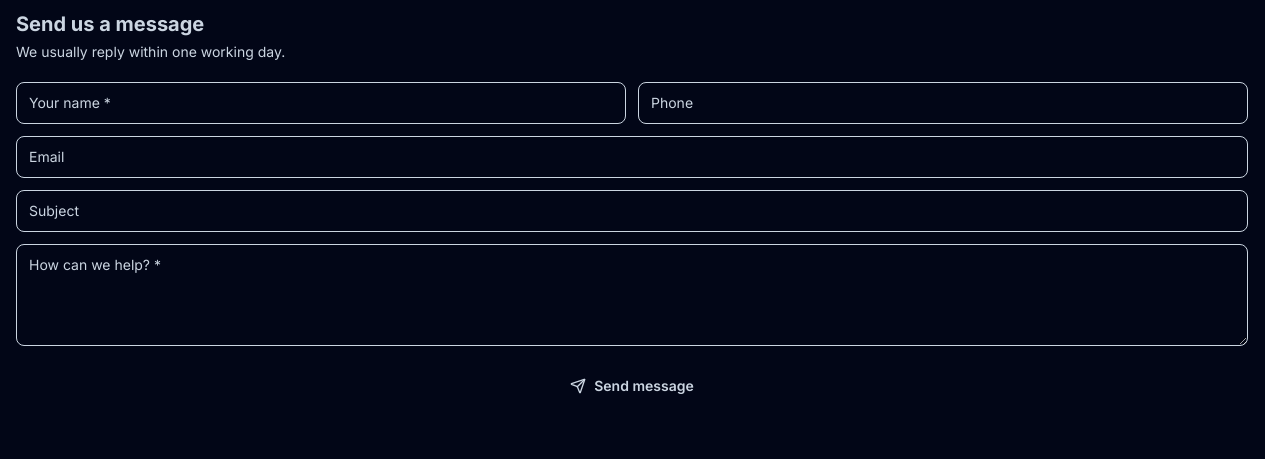
Test: contact form › preview me asli message nahi jaata
The width and height of the screenshot is (1265, 459).
Type "Riya" into the field labelled "Your name" at (321, 103), box [16,82,626,124]
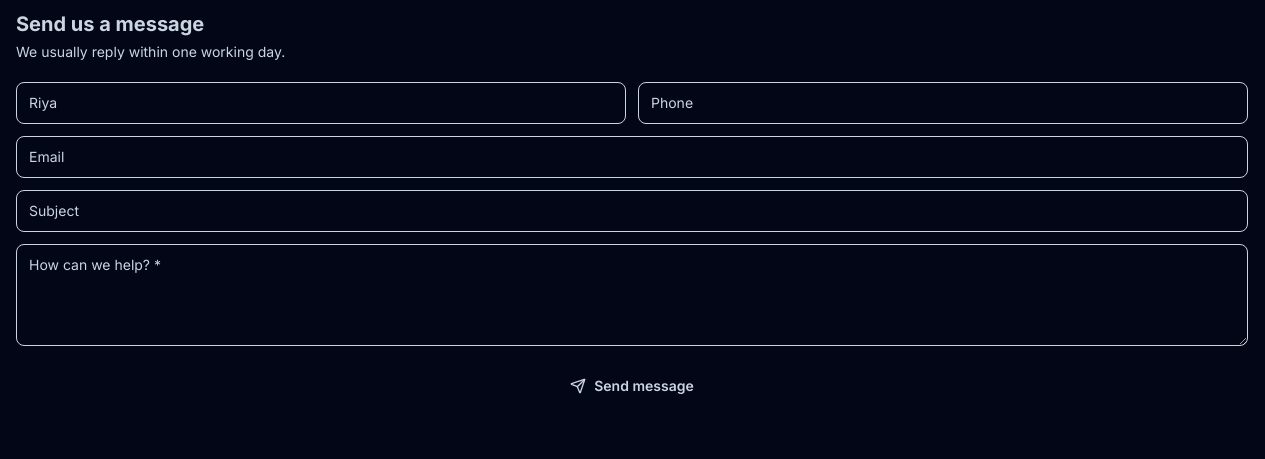
Type "9876543210" into the field labelled "Phone" at (943, 103), box [638,82,1248,124]
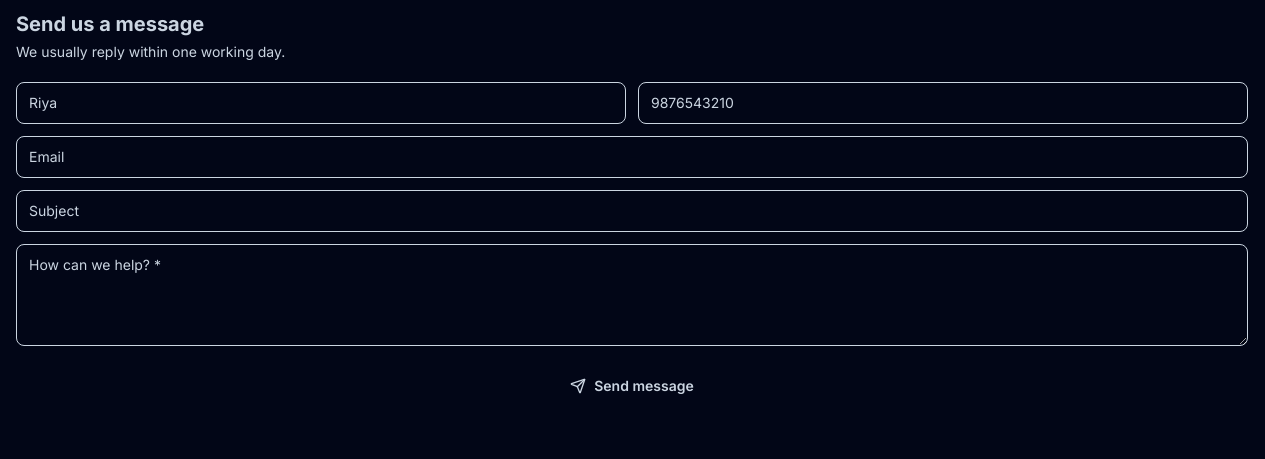
Type "Hello there" into the text box named "Message" at (632, 295), box [16,244,1248,346]
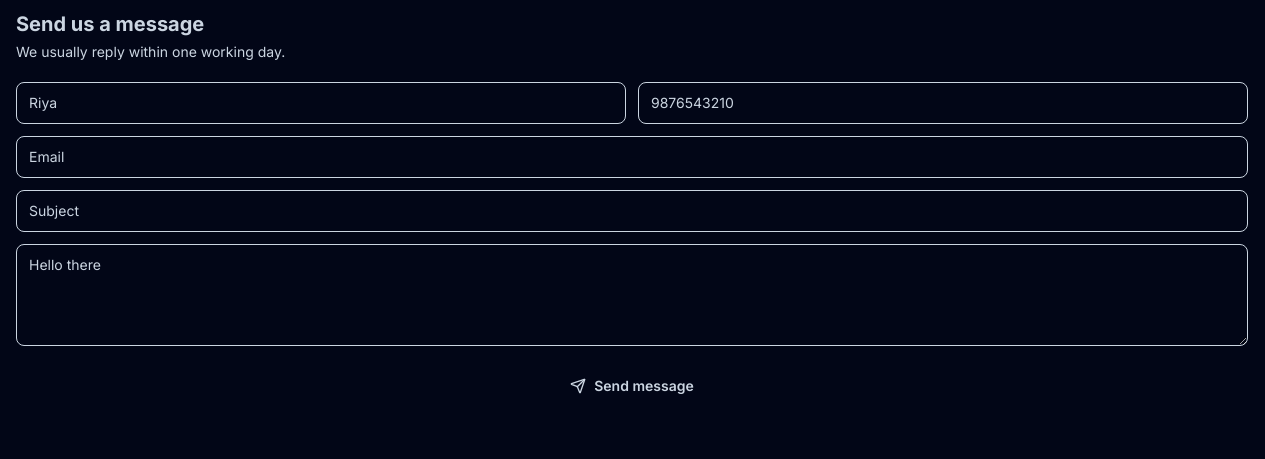
Submit the form named "Contact form"
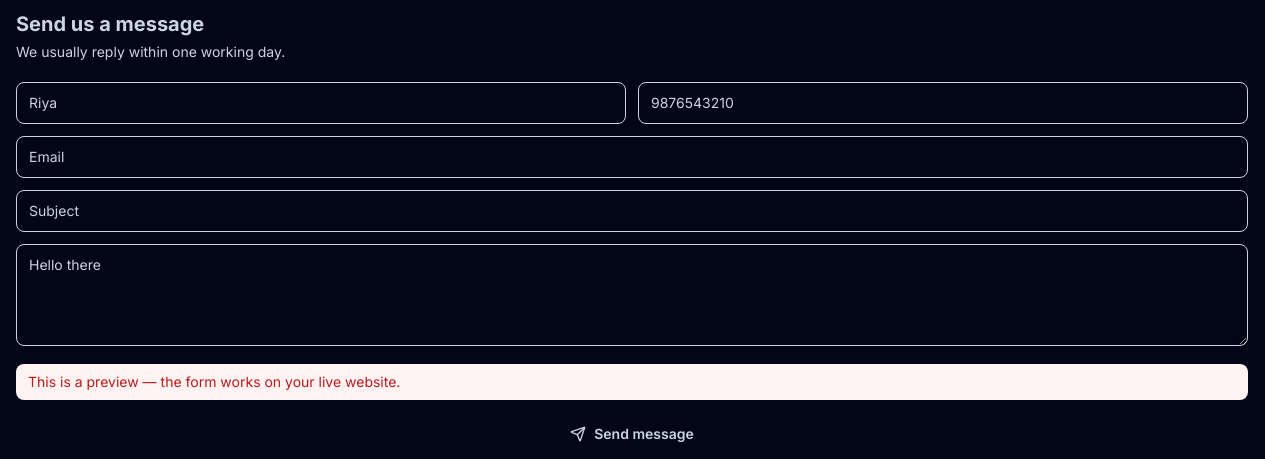
Check: the message shows "preview", box [28,373,400,390]
